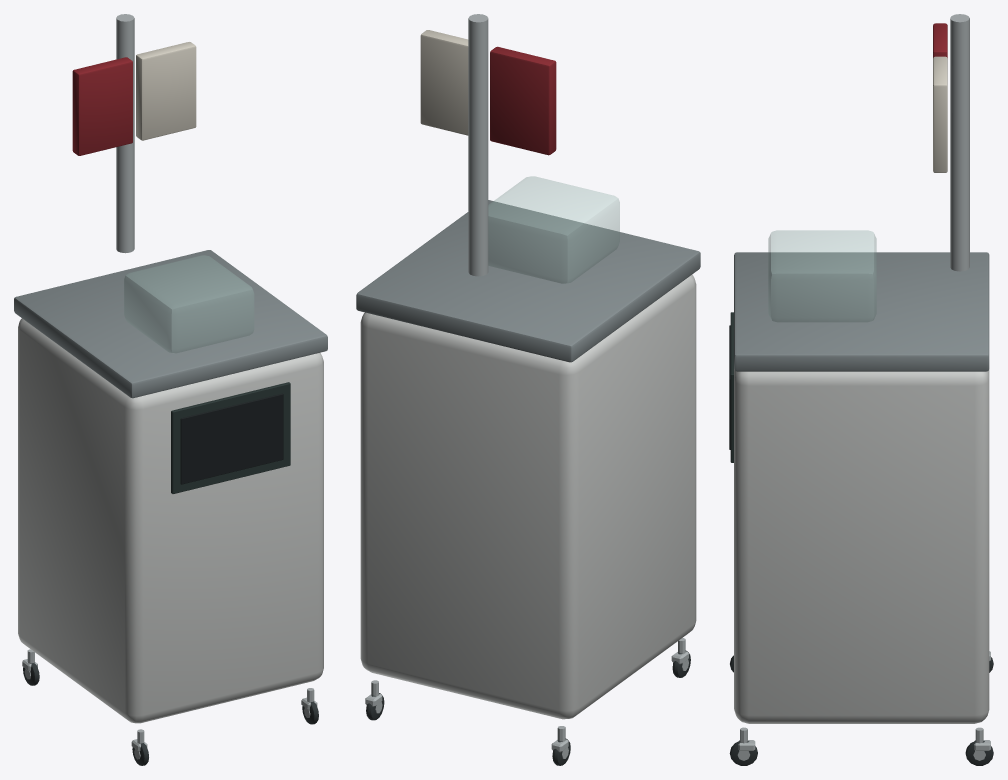
The model's file is sc-cell-salvage.glb.
The picture shows the model from 3 angles, left to right: view 1: azimuth 30°, elevation 25°; view 2: azimuth 150°, elevation 25°; view 3: azimuth 270°, elevation 25°; orthographic projection. The views are drawn at different scales.
Parts seen in each view (by area): view 1: sc-cell-salvage; view 2: sc-cell-salvage; view 3: sc-cell-salvage.
Boxes of the visible parts, <box> form: sc-cell-salvage: <box>14,14,327,765</box>; sc-cell-salvage: <box>356,14,700,765</box>; sc-cell-salvage: <box>729,14,993,765</box>.
Bounding box in the file's own units: 0.5 × 1.58 × 0.5388.
